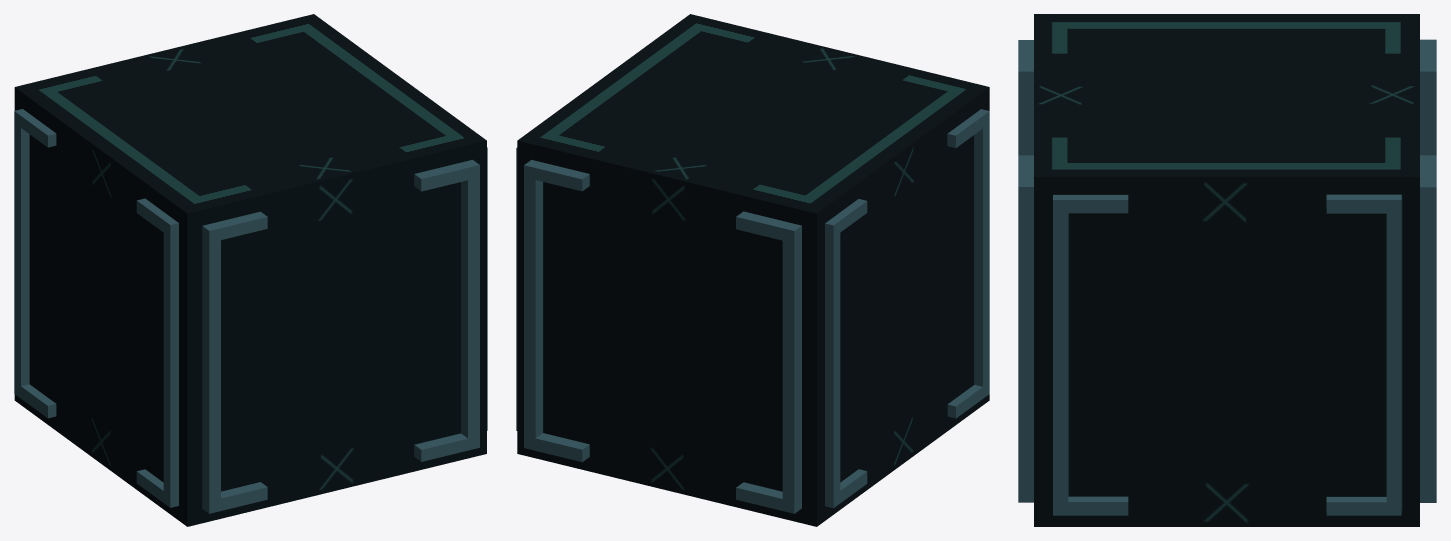
Rendered from Wall tile.fbx.
3 views of the same model, side by side, from view 1: azimuth 30°, elevation 25°; view 2: azimuth 150°, elevation 25°; view 3: azimuth 270°, elevation 25° (orthographic). The views are drawn at different scales.
Visible parts, largest first — view 1: Cube, Cube.001, Cube.002, Cube.008, Cube.007; view 2: Cube, Cube.005, Cube.006, Cube.007, Cube.008, Cube.003; view 3: Cube, Cube.003, Cube.004, Cube.006, Cube.001, Cube.005, Cube.002.
Boxes of the visible parts, bbox=[...] form: Cube: bbox=[14, 14, 486, 526]; Cube.001: bbox=[414, 160, 479, 461]; Cube.002: bbox=[202, 211, 267, 513]; Cube.008: bbox=[14, 109, 56, 418]; Cube.007: bbox=[136, 198, 178, 507]; Cube: bbox=[517, 14, 989, 526]; Cube.005: bbox=[736, 211, 801, 513]; Cube.006: bbox=[524, 160, 589, 462]; Cube.007: bbox=[947, 109, 989, 418]; Cube.008: bbox=[825, 199, 867, 508]; Cube.003: bbox=[516, 147, 517, 430]; Cube: bbox=[1034, 14, 1419, 526]; Cube.003: bbox=[1326, 194, 1401, 515]; Cube.004: bbox=[1053, 195, 1128, 515]; Cube.006: bbox=[1420, 155, 1436, 502]; Cube.001: bbox=[1018, 155, 1033, 502]; Cube.005: bbox=[1420, 39, 1436, 155]; Cube.002: bbox=[1018, 40, 1033, 155].
Size of the model in its own units: 212 by 200 by 217.
Materials: 2 (1 with a texture image).
